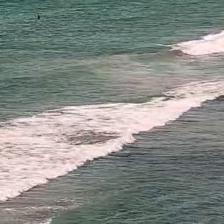surfer: (37, 14, 41, 20)
